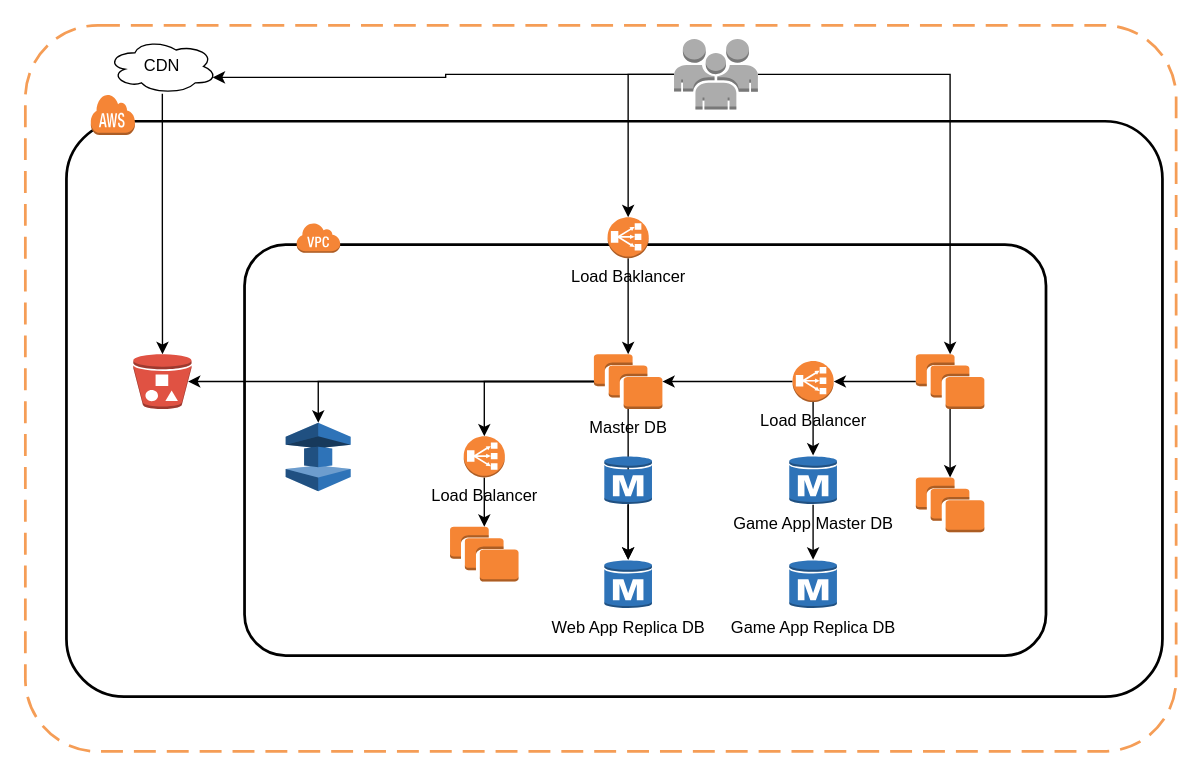
Image size: 1200x775. Some labels were removed from this diagram. The shapes that lost their labels are listed below. From the top down, each one's centre as x and y in pixels, then its label:
At point 715,74: "User".
At point 162,381: "Object Bucket".
At point 317,456: "ElastiCache".
At point 627,479: "Web App Master DB".
